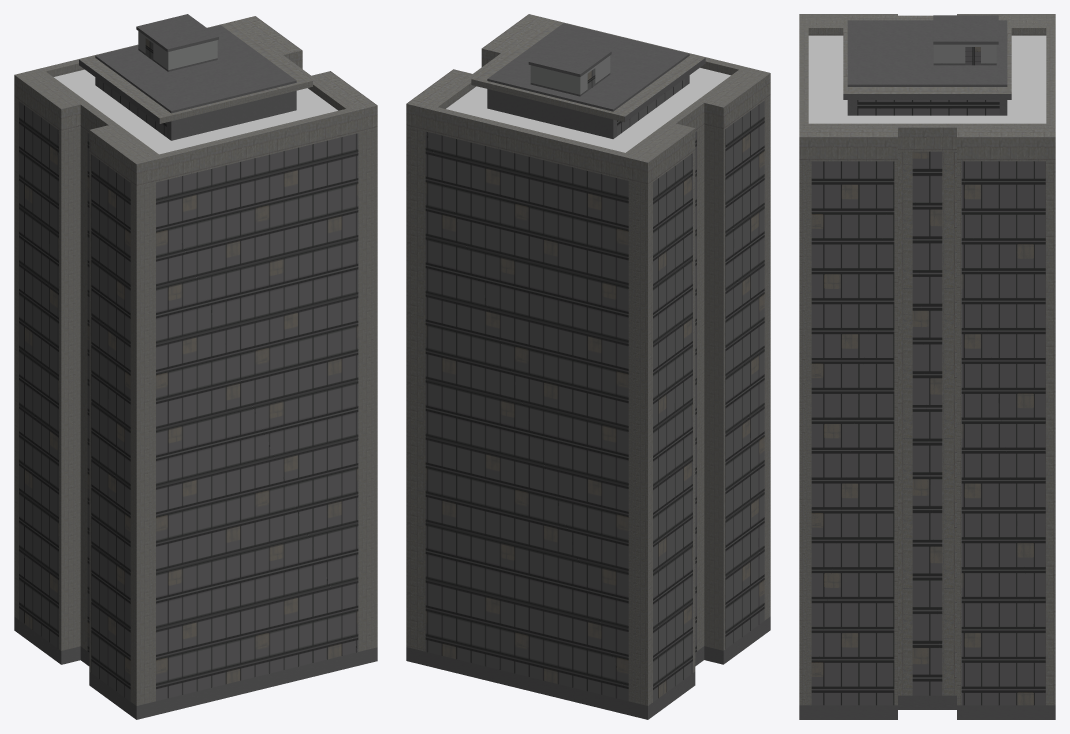
Rendered from SM_Building4.FBX.
The picture shows the model from 3 angles, left to right: view 1: azimuth 30°, elevation 25°; view 2: azimuth 150°, elevation 25°; view 3: azimuth 270°, elevation 25°; orthographic projection. The views are drawn at different scales.
Parts seen in each view (by area): view 1: SM_Building4; view 2: SM_Building4; view 3: SM_Building4.
Part boxes in pixels (box(x1,y1,x2,y2)): SM_Building4: box(14, 14, 377, 719); SM_Building4: box(406, 14, 770, 719); SM_Building4: box(799, 14, 1055, 719).
Size of what is drawn, in the model's own units: 5404 by 4747 by 12859.
